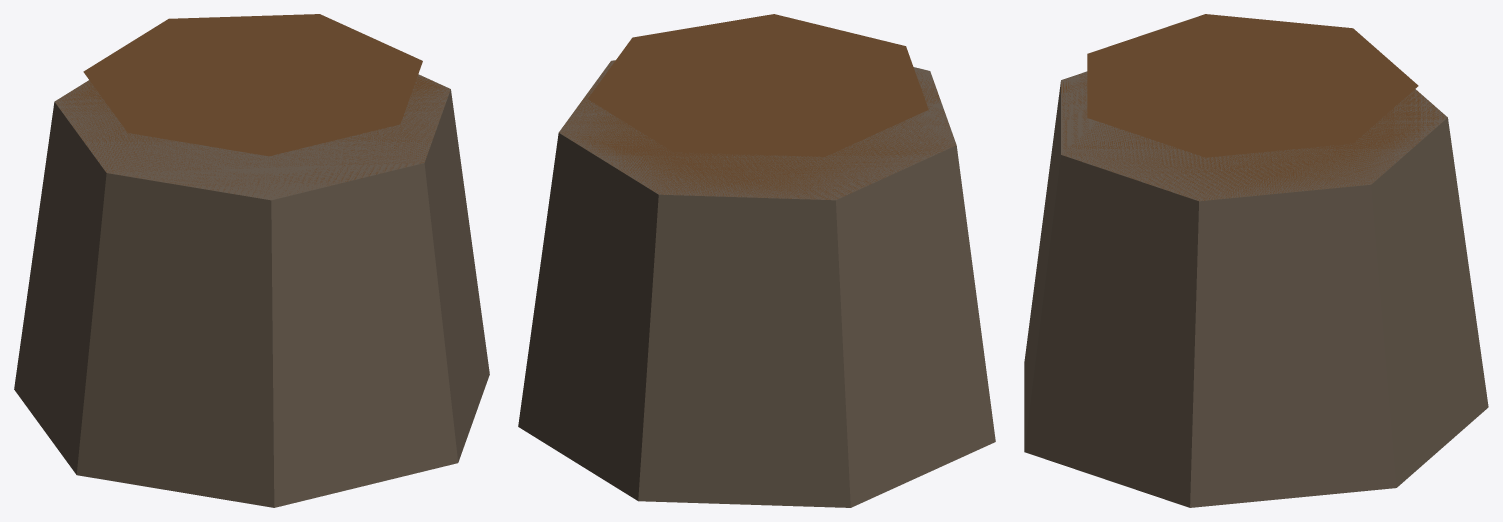
Rendered from nature_dead_b_lod1.glb.
The picture shows the model from 3 angles, left to right: view 1: azimuth 30°, elevation 25°; view 2: azimuth 150°, elevation 25°; view 3: azimuth 270°, elevation 25°; orthographic projection.
Parts seen in each view (by area): view 1: nature_dead_b_lod1; view 2: nature_dead_b_lod1; view 3: nature_dead_b_lod1.
Boxes of the visible parts, x1,y1,x2,y2 form: nature_dead_b_lod1: [14, 14, 489, 507]; nature_dead_b_lod1: [518, 14, 995, 507]; nature_dead_b_lod1: [1024, 14, 1488, 507].
Size of the model in its own units: 0.8189 by 0.61 by 0.7984.
